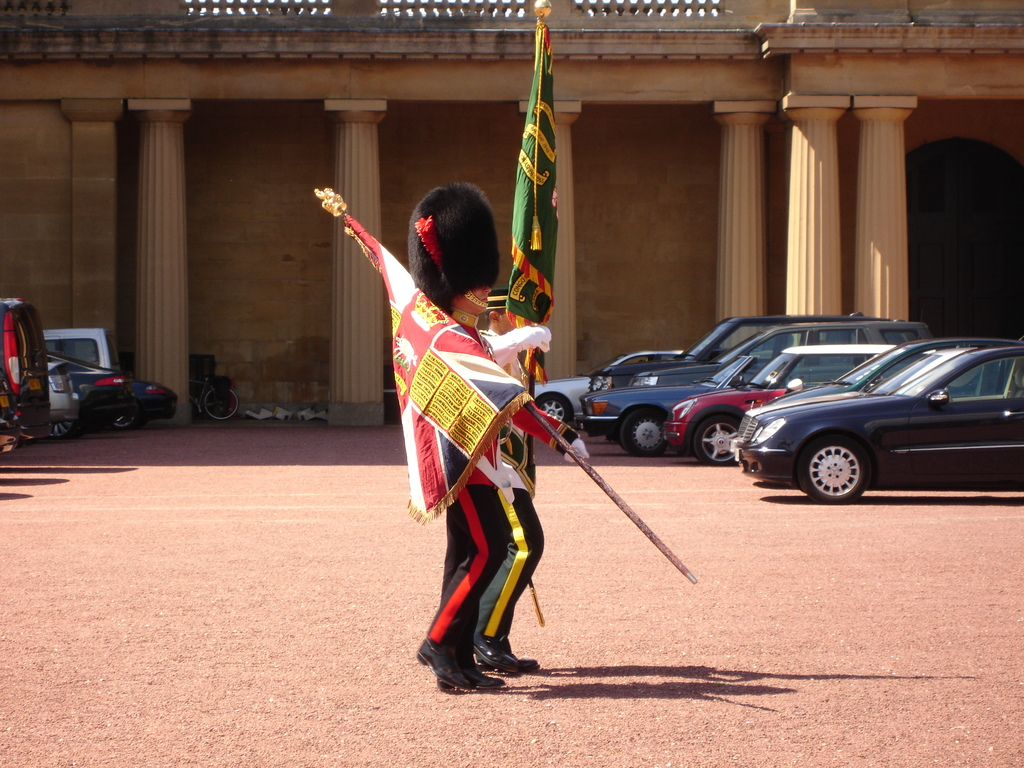Car: (531, 311, 1023, 505), (0, 295, 178, 458)
